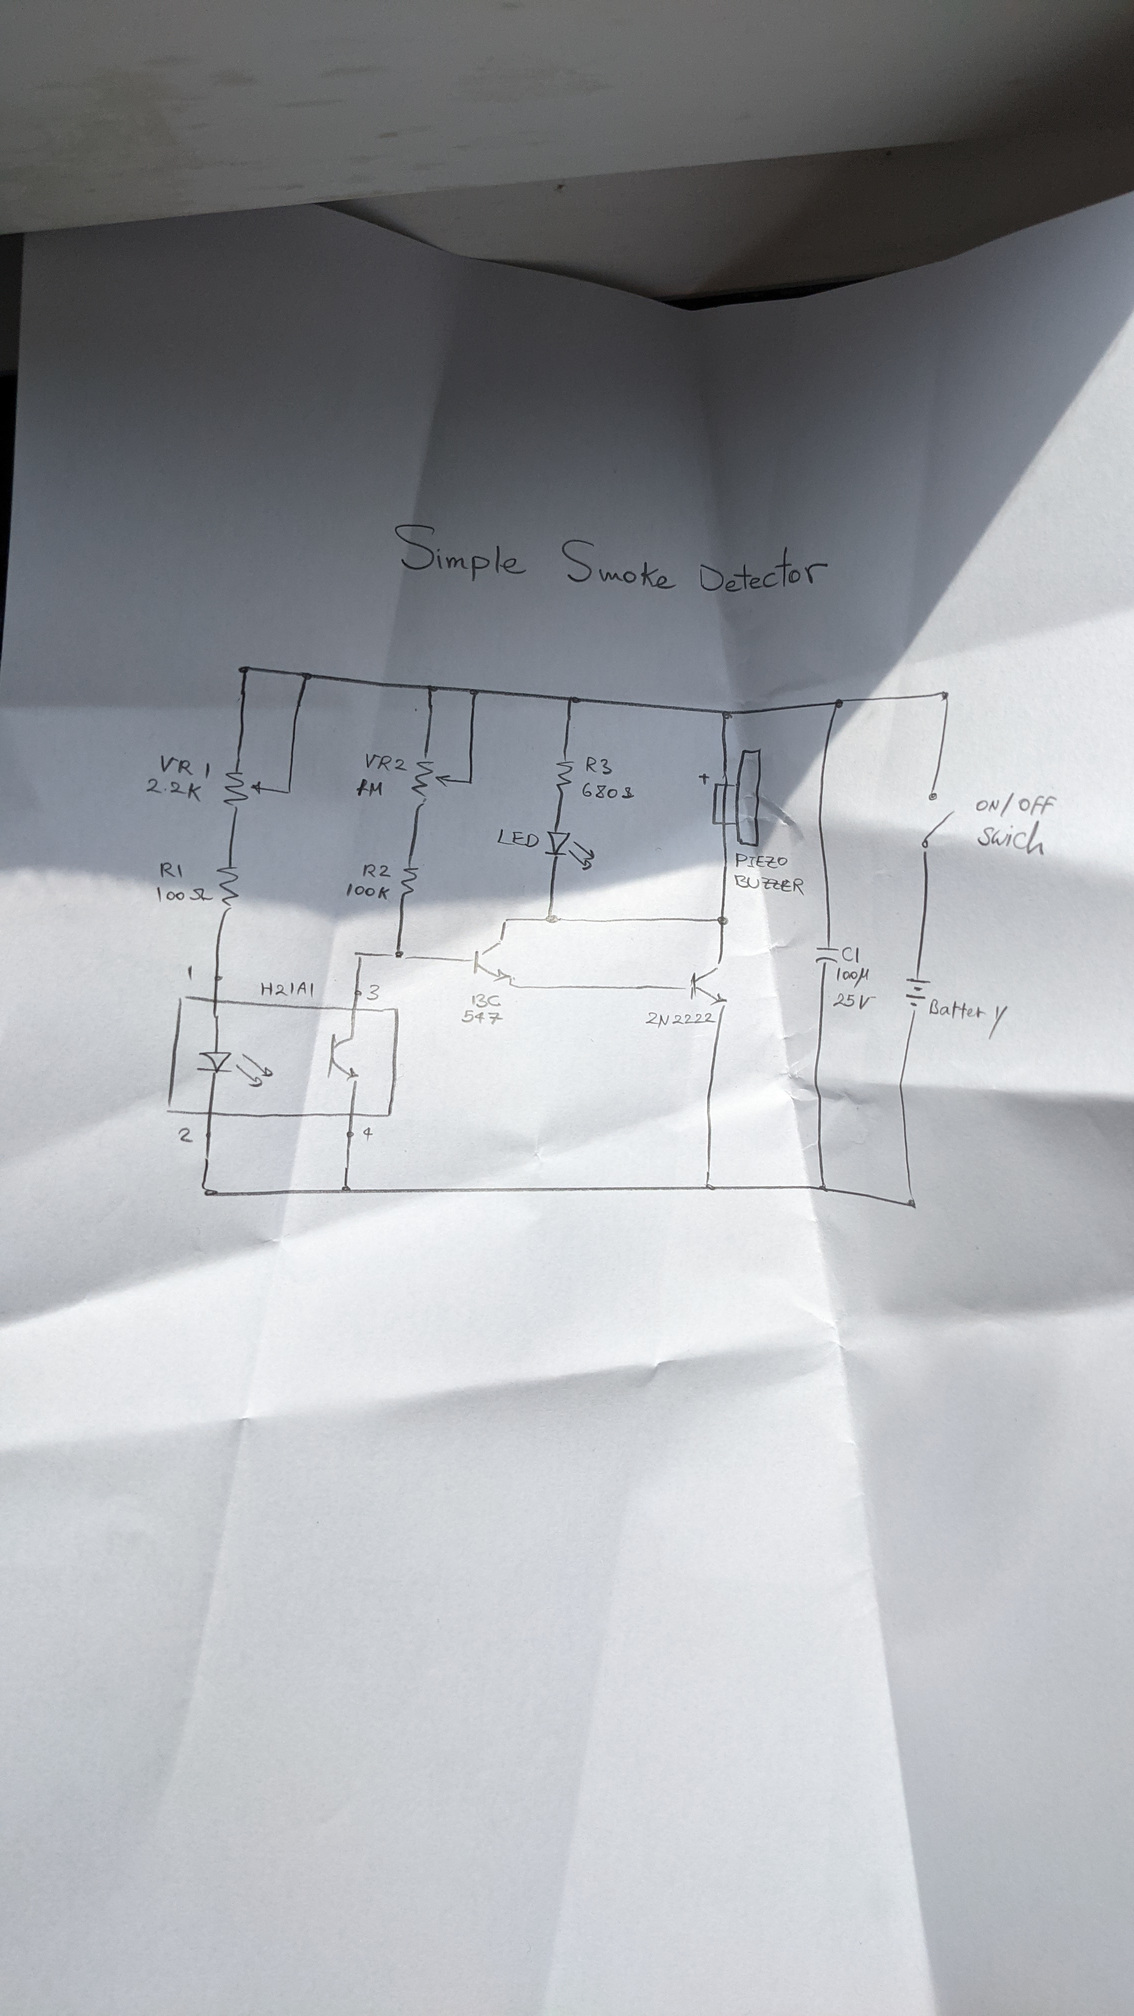capacitor.unpolarized: (813, 944, 842, 966)
diode.light_emitting: (541, 827, 598, 872)
integrated_circuit: (163, 993, 402, 1117)
junction: (386, 946, 411, 962), (198, 1181, 219, 1200), (900, 1191, 919, 1212), (543, 911, 564, 926), (701, 1178, 719, 1194), (937, 688, 955, 703), (564, 692, 582, 708), (714, 912, 731, 928), (814, 1181, 832, 1195), (831, 695, 846, 710), (352, 948, 368, 962), (338, 1182, 354, 1196), (719, 708, 735, 721), (424, 681, 440, 695), (467, 685, 482, 699), (235, 663, 252, 676), (299, 670, 316, 683), (507, 980, 519, 990), (465, 777, 476, 786), (284, 786, 294, 796), (501, 915, 512, 924)
optocoupler: (192, 1030, 361, 1090)
resistor: (215, 863, 242, 914), (551, 753, 576, 796), (397, 863, 421, 901)
resistor.adjustable: (408, 753, 451, 811), (222, 768, 264, 813)
speaker: (696, 748, 764, 849)
switch: (919, 788, 961, 854)
text: (392, 521, 832, 595), (928, 997, 1009, 1040), (973, 820, 1047, 858), (973, 791, 1058, 820), (732, 872, 807, 899), (144, 775, 202, 803), (158, 752, 212, 780), (642, 1009, 717, 1029), (154, 883, 216, 906), (259, 979, 317, 1000), (580, 780, 636, 800), (496, 827, 541, 850), (363, 750, 408, 774), (734, 852, 789, 871), (343, 881, 390, 901), (461, 1008, 504, 1027), (831, 991, 876, 1009), (835, 966, 870, 989), (156, 858, 187, 881), (354, 777, 384, 799), (584, 755, 613, 775), (469, 991, 503, 1009), (361, 863, 392, 879), (840, 944, 861, 965), (176, 1124, 195, 1145), (366, 983, 382, 1002), (360, 1124, 377, 1142), (184, 962, 197, 982)
transistor: (677, 958, 731, 1008), (465, 936, 514, 982)
voltage.dc: (903, 973, 933, 1012)
